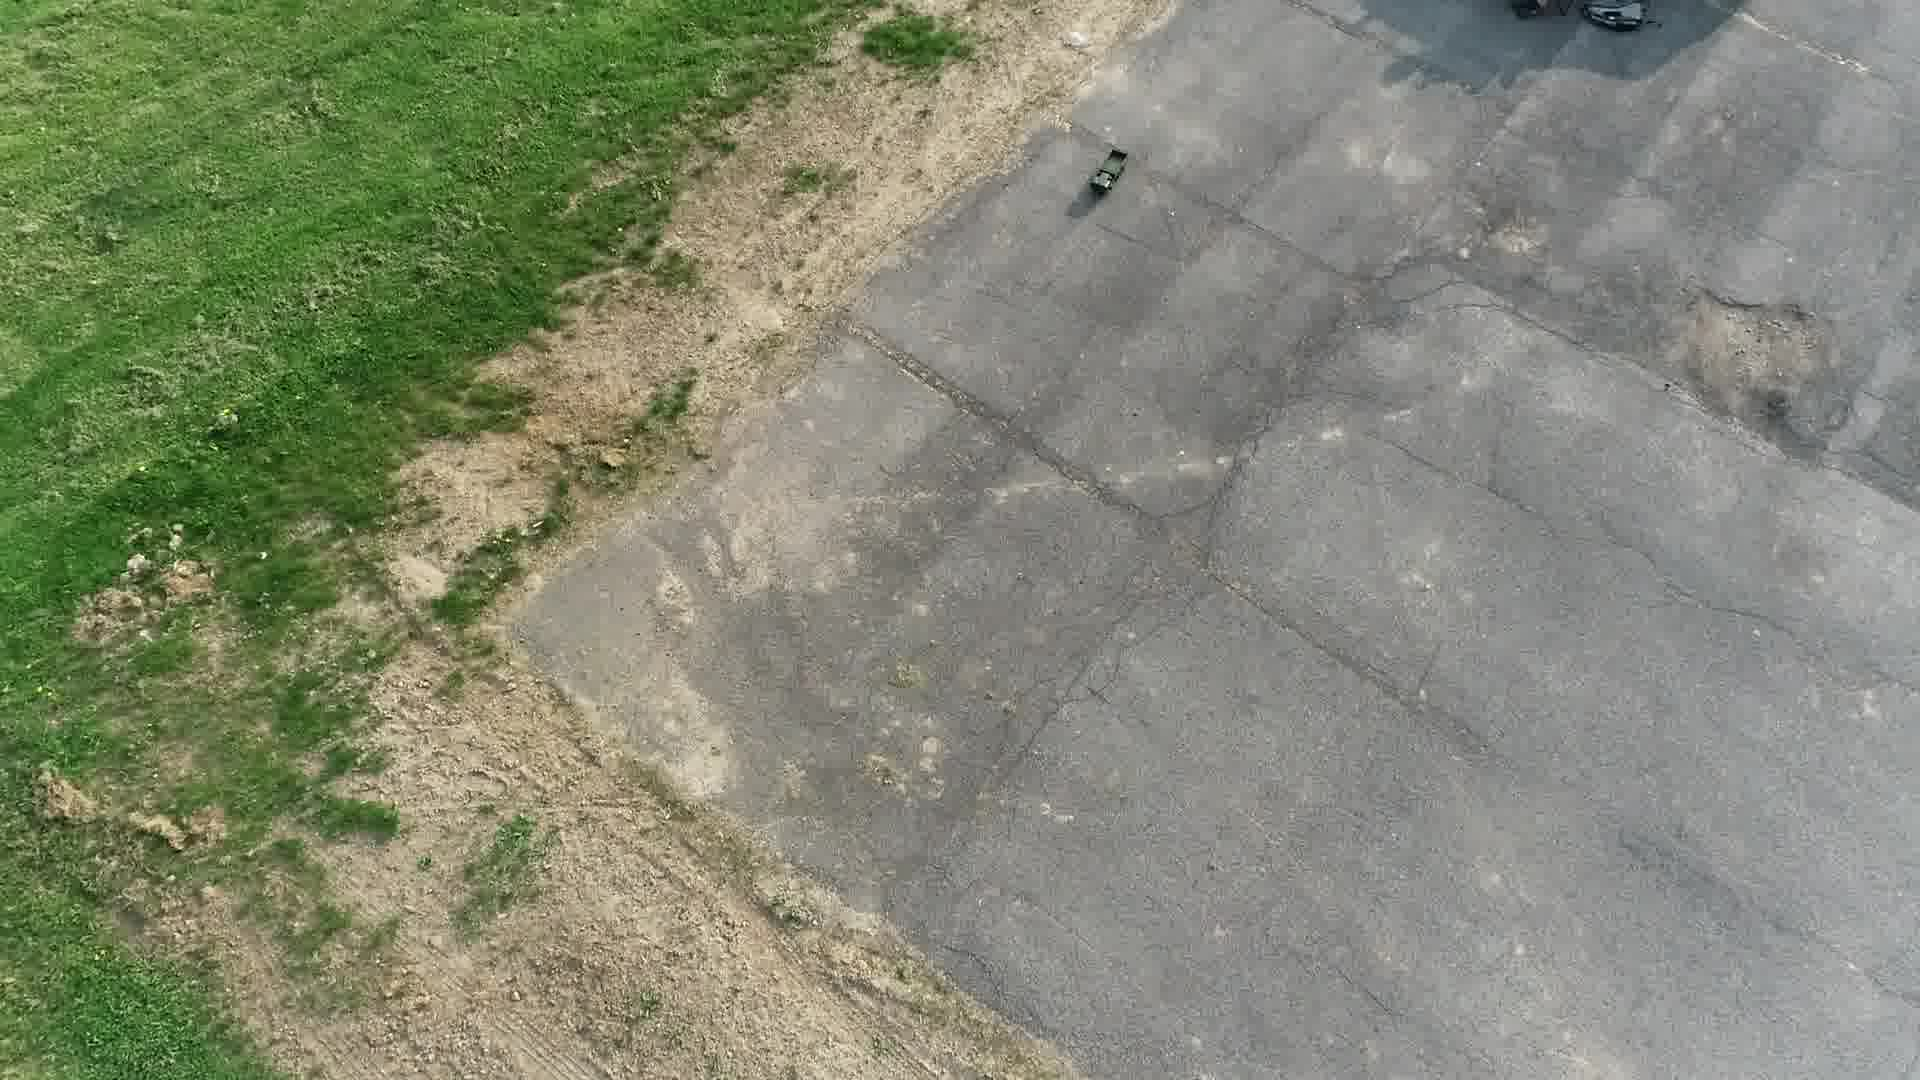transporter9: (1087, 145, 1130, 200)
